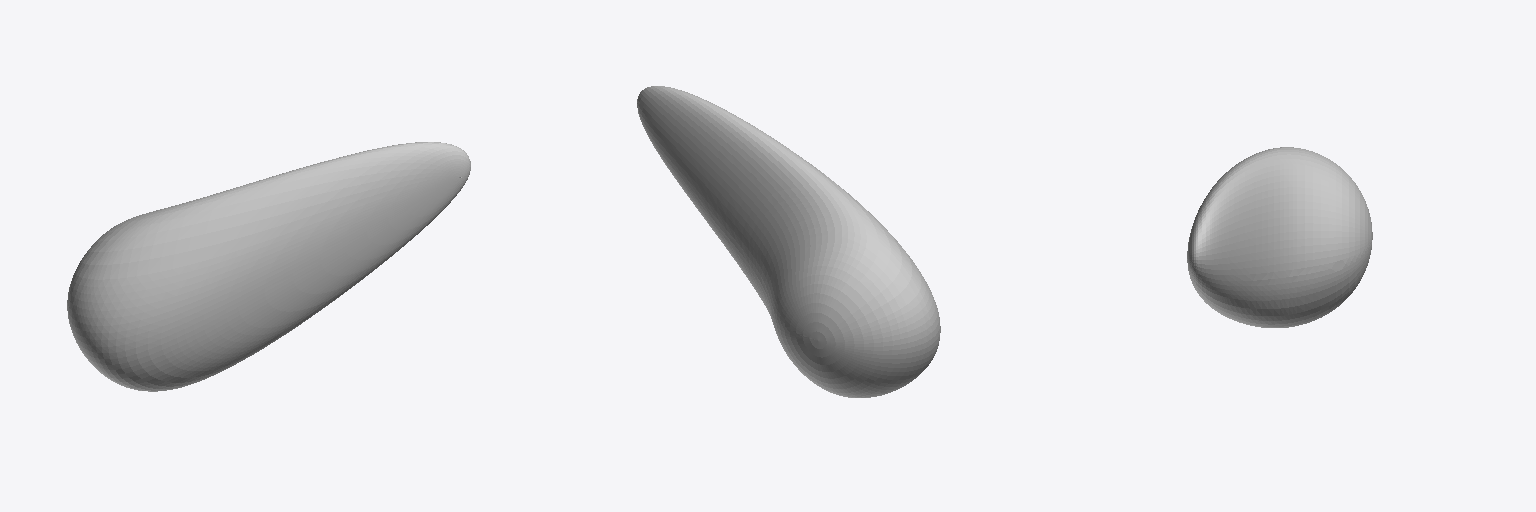
The model's file is HelloWorld.obj.
3 renders of one model, left to right at view 1: azimuth 30°, elevation 25°; view 2: azimuth 150°, elevation 25°; view 3: azimuth 270°, elevation 25°, orthographic.
Visible parts, largest first — view 1: Solid1; view 2: Solid1; view 3: Solid1.
Part boxes in pixels (x1,y1,x2,y2): Solid1: (67, 142, 470, 391); Solid1: (637, 86, 940, 397); Solid1: (1187, 147, 1372, 327).
Bounding box in the file's own units: 8.58 × 5.18 × 4.